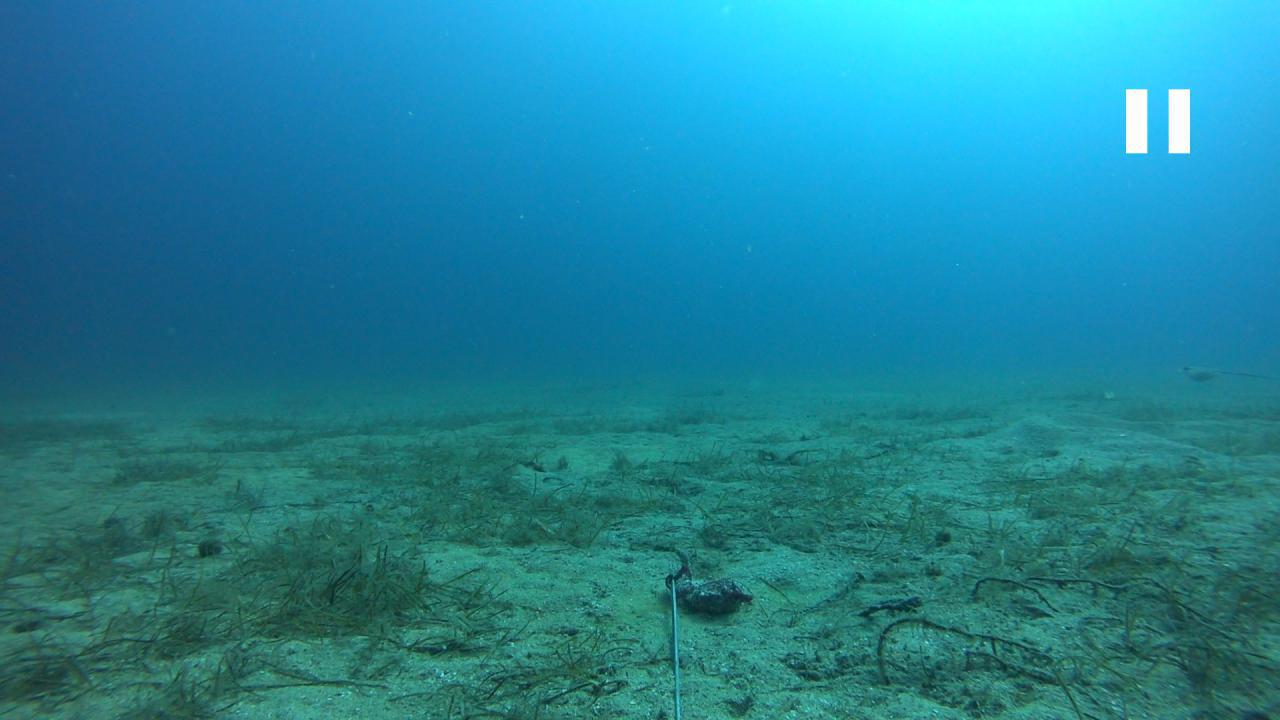dasyatis: (1176, 363, 1274, 384)
